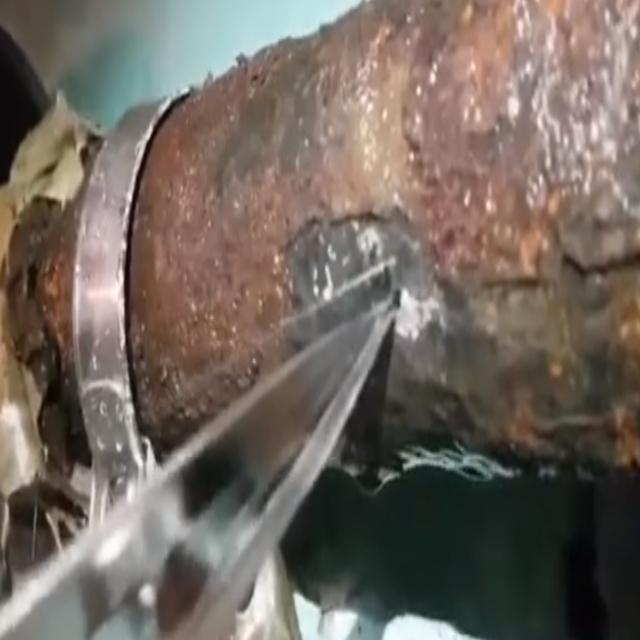leak: (0, 302, 395, 638)
